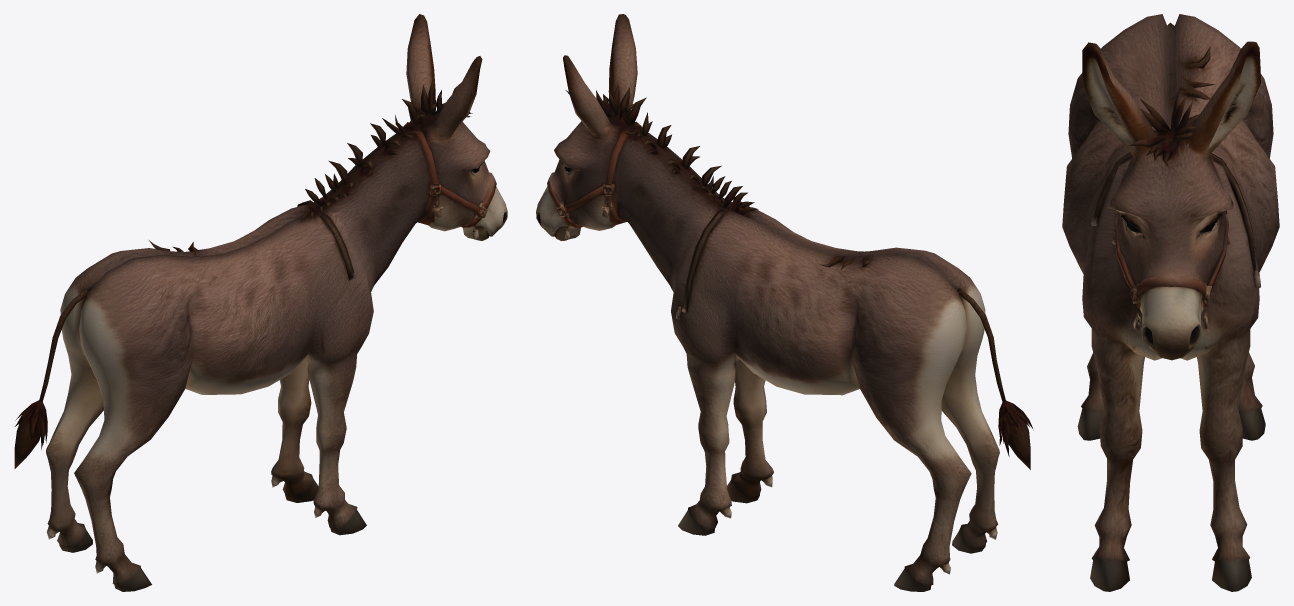
The picture shows the model from 3 angles, left to right: view 1: azimuth 30°, elevation 25°; view 2: azimuth 150°, elevation 25°; view 3: azimuth 270°, elevation 25°; orthographic projection. The views are drawn at different scales.
Visible parts, largest first — view 1: tripo_node_672760ed-f236-410c-9d7e-eeb4346ebe48; view 2: tripo_node_672760ed-f236-410c-9d7e-eeb4346ebe48; view 3: tripo_node_672760ed-f236-410c-9d7e-eeb4346ebe48.
Boxes of the visible parts, x1=… form: tripo_node_672760ed-f236-410c-9d7e-eeb4346ebe48: x1=14, y1=14, x2=507, y2=591; tripo_node_672760ed-f236-410c-9d7e-eeb4346ebe48: x1=536, y1=14, x2=1033, y2=591; tripo_node_672760ed-f236-410c-9d7e-eeb4346ebe48: x1=1062, y1=14, x2=1279, y2=591.
Size of the model in its own units: 0.998 by 0.8691 by 0.2754.
1 material, 1 textured.
